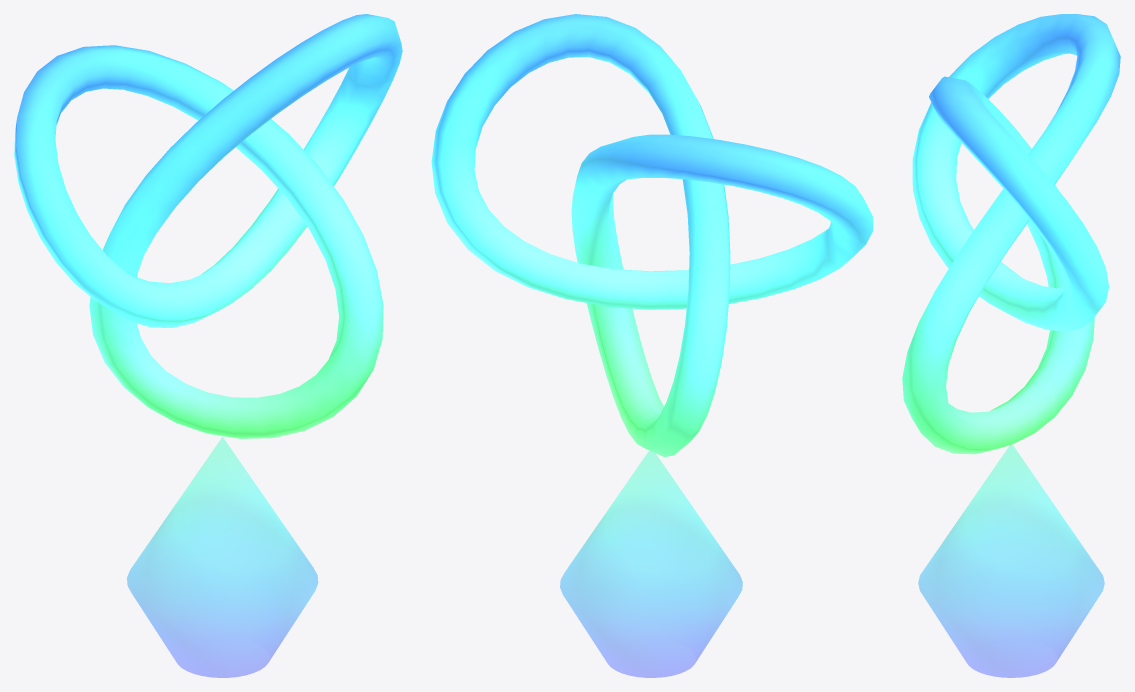
The model's file is AbstractStatue3.glb.
3 renders of one model, left to right at view 1: azimuth 30°, elevation 25°; view 2: azimuth 150°, elevation 25°; view 3: azimuth 270°, elevation 25°, orthographic. The views are drawn at different scales.
Visible parts, largest first — view 1: AbstractStatue3; view 2: AbstractStatue3; view 3: AbstractStatue3.
Part boxes in pixels (box(x1,y1,x2,y2)): AbstractStatue3: box(14, 14, 402, 677); AbstractStatue3: box(431, 14, 873, 677); AbstractStatue3: box(902, 14, 1120, 677).
Bounding box in the file's own units: 1.23 × 1.83 × 0.5935.
Materials: 2 (2 with a texture image).
